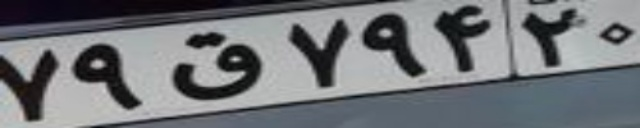0: (597, 21, 634, 45)
2: (522, 7, 586, 68)
4: (433, 4, 493, 72)
7: (284, 17, 356, 88), (0, 48, 61, 121)
9: (69, 42, 146, 110), (362, 12, 429, 77)
ghaf: (169, 31, 264, 101)
